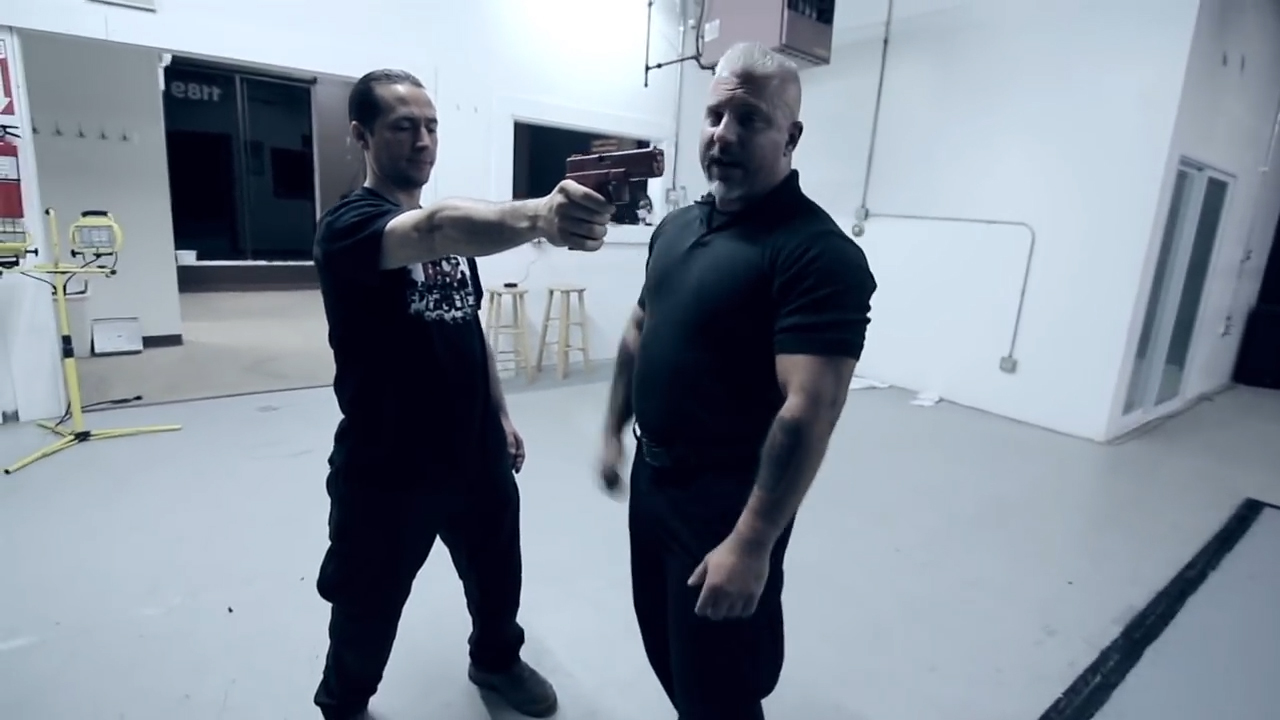pistol: (564, 143, 666, 209)
